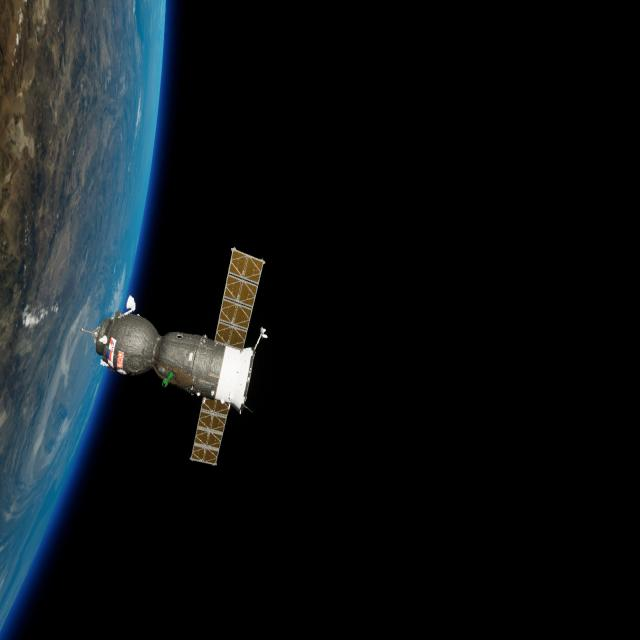Satellites revolving around earth: (80, 244, 270, 469)
